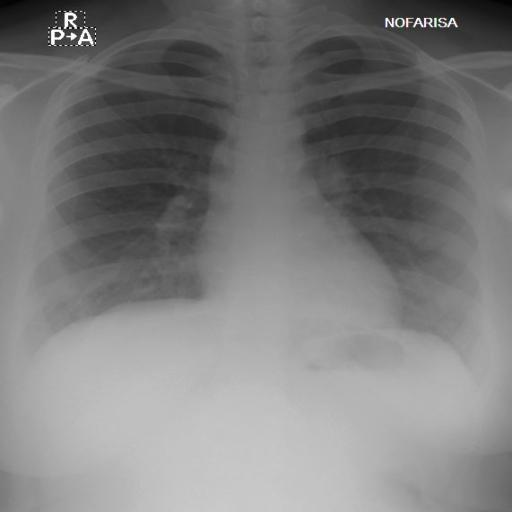normal: (7, 20, 503, 397)
